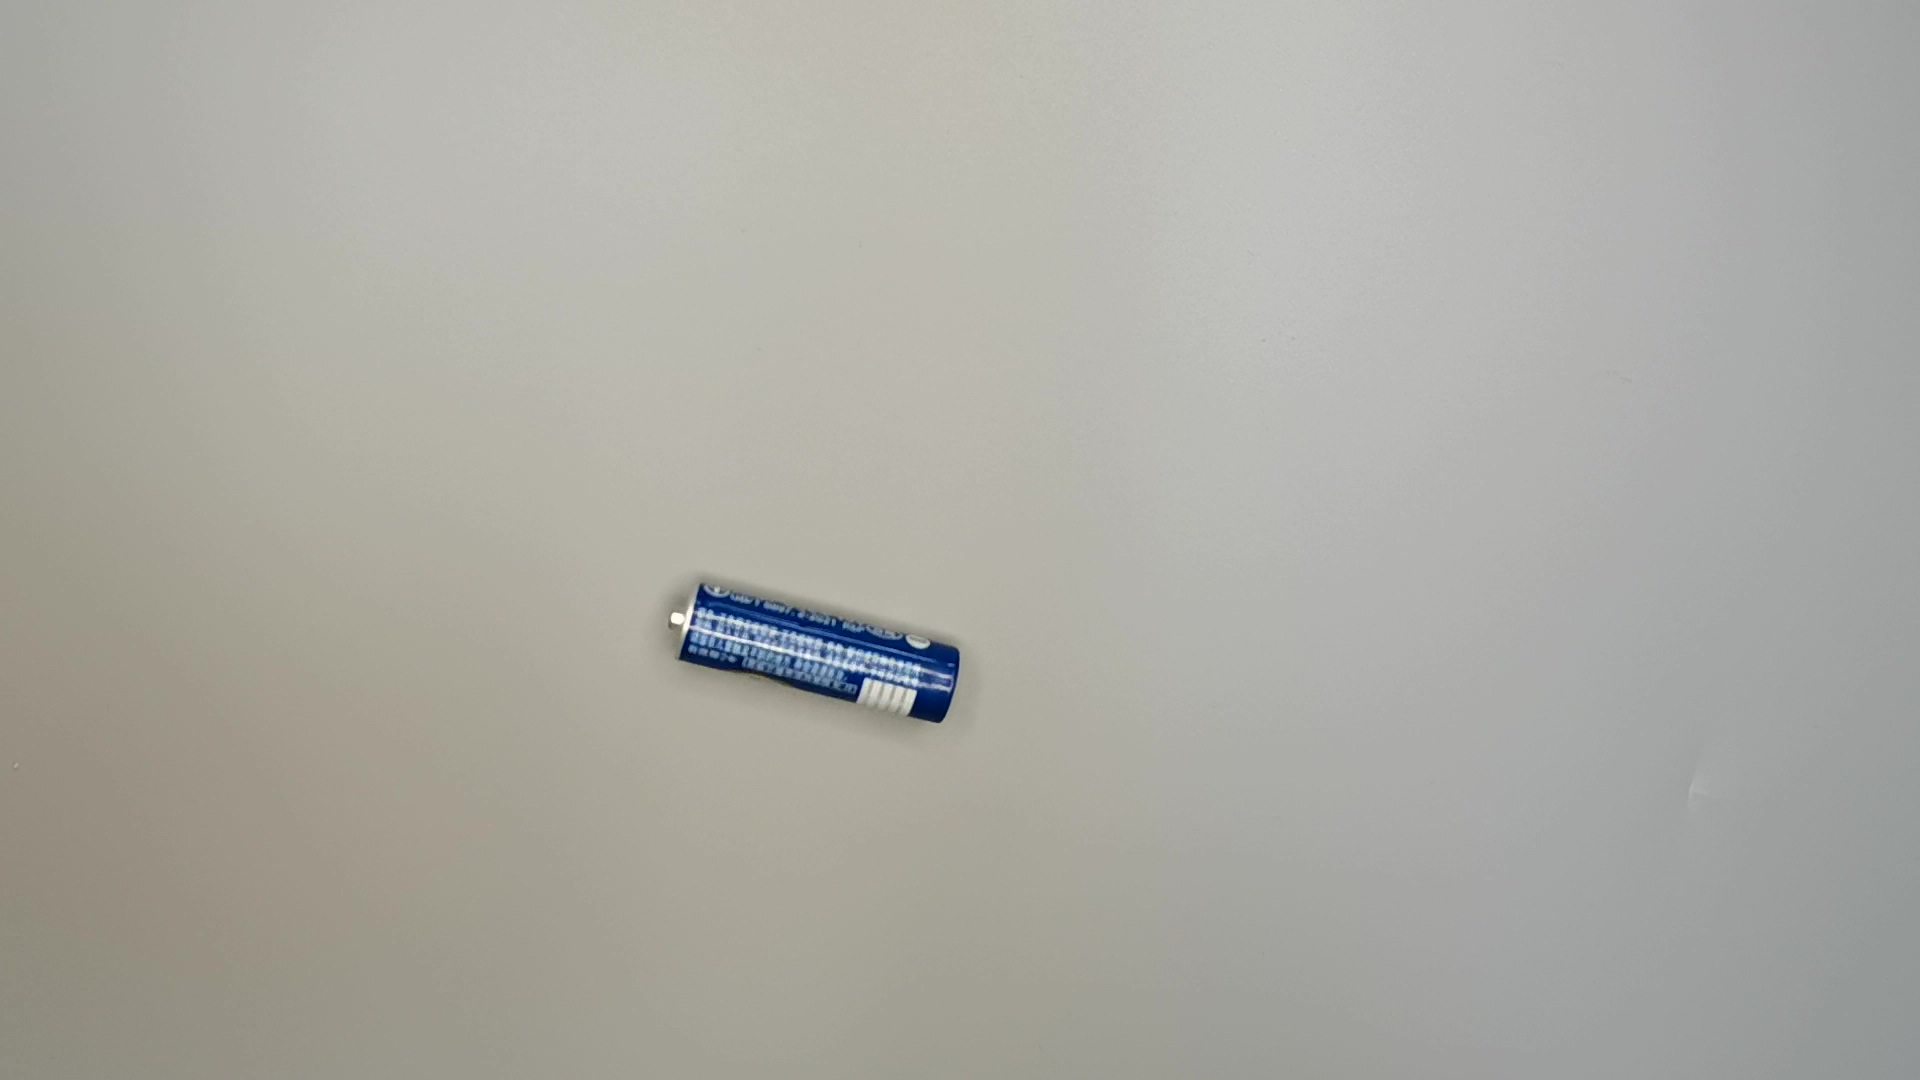battery: (667, 575, 967, 727)
